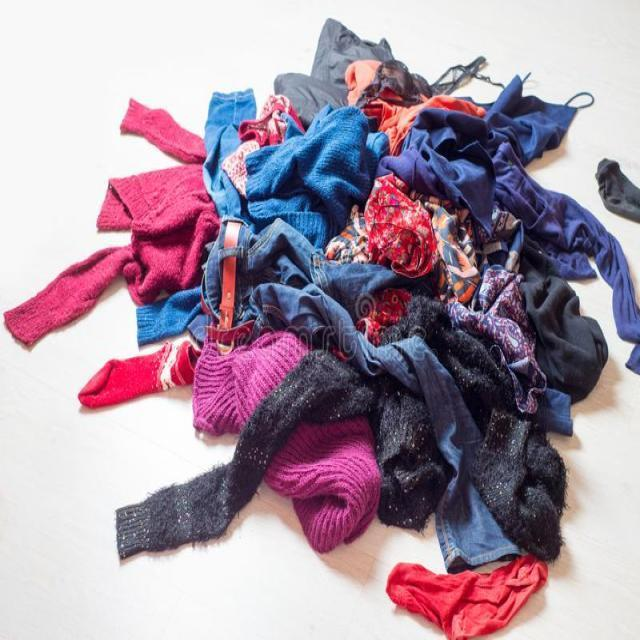clothes: (130, 89, 568, 552)
